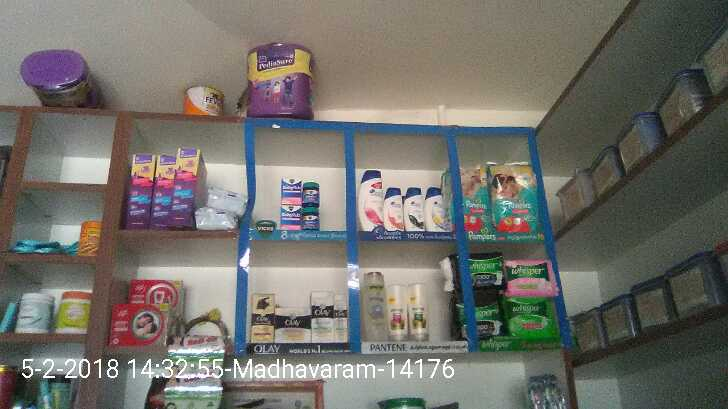vicks: (279, 178, 318, 232)
